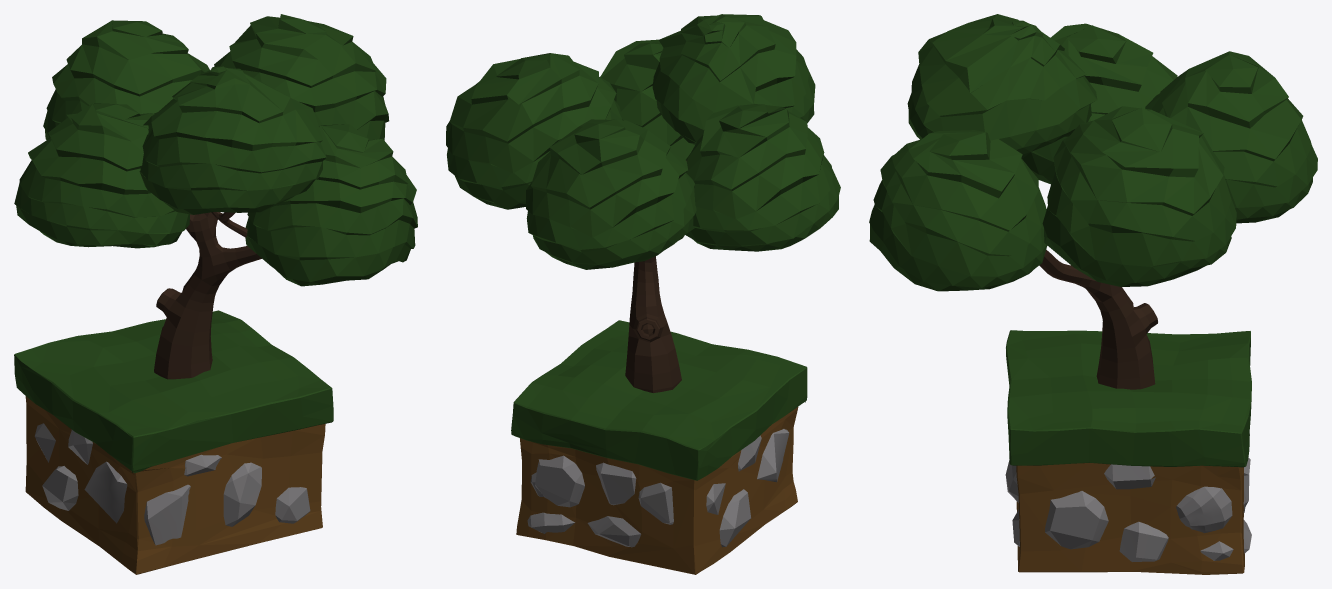
The model's file is tile_tree.glb.
The picture shows the model from 3 angles, left to right: view 1: azimuth 30°, elevation 25°; view 2: azimuth 150°, elevation 25°; view 3: azimuth 270°, elevation 25°; orthographic projection. The views are drawn at different scales.
Visible parts, largest first — view 1: Cube, hill.001, rocks combined.002; view 2: Cube, hill.001, rocks combined.002; view 3: Cube, hill.001, rocks combined.002.
Part boxes in pixels (<box>): Cube: <box>14,14,417,379</box>; hill.001: <box>14,310,333,574</box>; rocks combined.002: <box>34,423,310,545</box>; Cube: <box>446,14,840,392</box>; hill.001: <box>511,320,807,574</box>; rocks combined.002: <box>527,429,789,547</box>; Cube: <box>869,14,1317,389</box>; hill.001: <box>1006,330,1251,574</box>; rocks combined.002: <box>1005,434,1251,561</box>.
Bounding box in the file's own units: 1.94 × 2.46 × 1.98.
